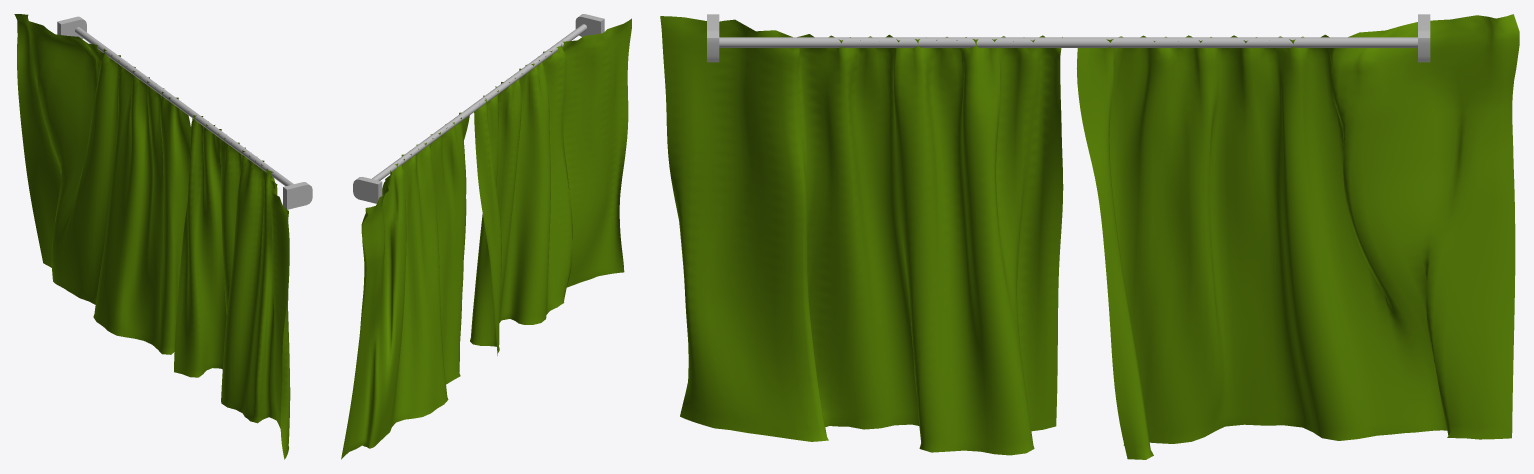
Rendered from WindowwithCurtain.fbx.
The picture shows the model from 3 angles, left to right: view 1: azimuth 30°, elevation 25°; view 2: azimuth 150°, elevation 25°; view 3: azimuth 270°, elevation 25°; orthographic projection. The views are drawn at different scales.
Parts seen in each view (by area): view 1: polySurface558, polySurface559, polySurface560; view 2: polySurface559, polySurface558, polySurface560; view 3: polySurface558, polySurface559, polySurface560.
Part boxes in pixels (x1,y1,x2,y2): polySurface558: [14, 14, 190, 354]; polySurface559: [174, 111, 290, 459]; polySurface560: [57, 16, 312, 209]; polySurface559: [470, 18, 631, 355]; polySurface558: [341, 112, 469, 459]; polySurface560: [353, 14, 604, 203]; polySurface558: [1076, 14, 1519, 459]; polySurface559: [660, 16, 1063, 455]; polySurface560: [707, 14, 1430, 62].
Size of the model in its own units: 117 by 534 by 991.
